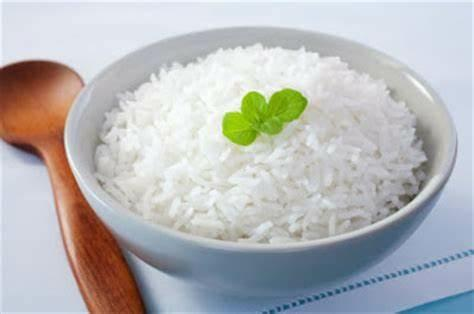WhiteRice: (91, 42, 428, 242)
